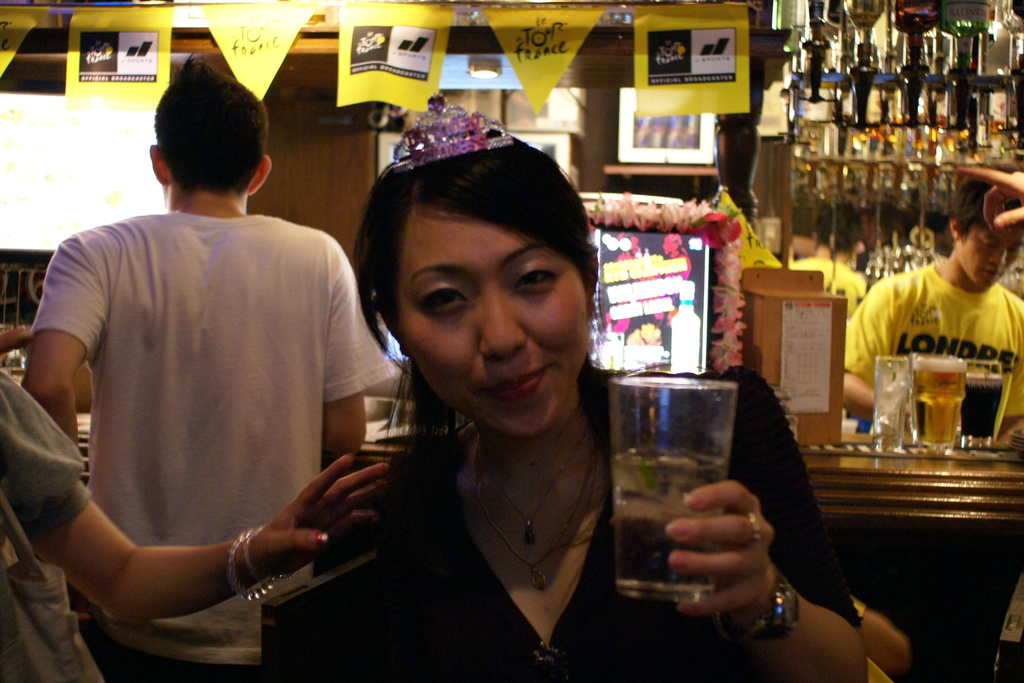Beer: (908, 354, 965, 448)
